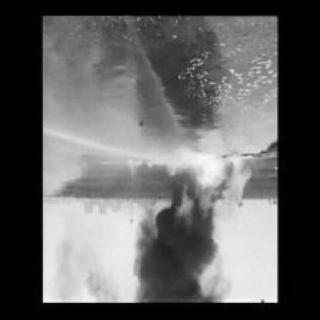other: (177, 117, 246, 153)
